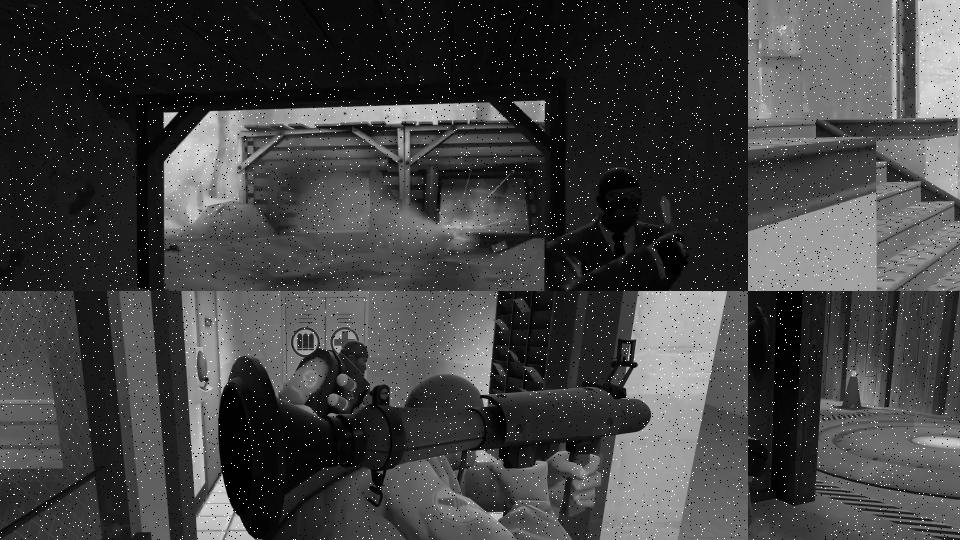Enemy: (220, 356, 651, 540), (529, 163, 748, 291), (278, 344, 382, 427)
